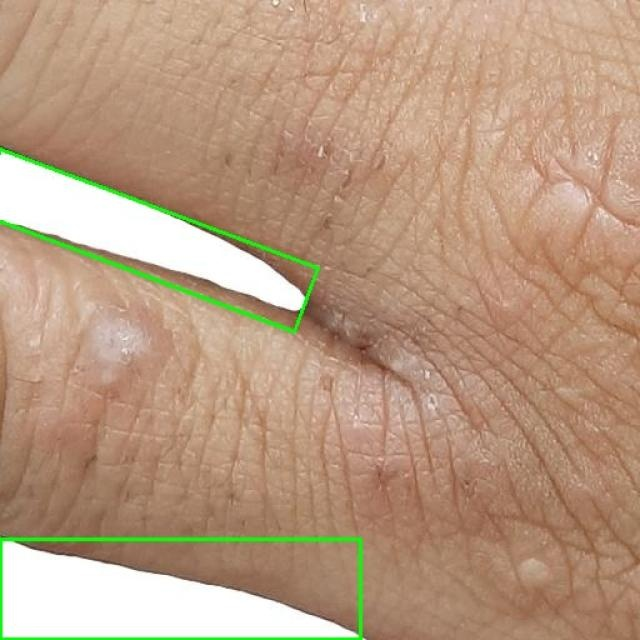Scabies: (0, 141, 320, 332), (0, 539, 360, 639)
